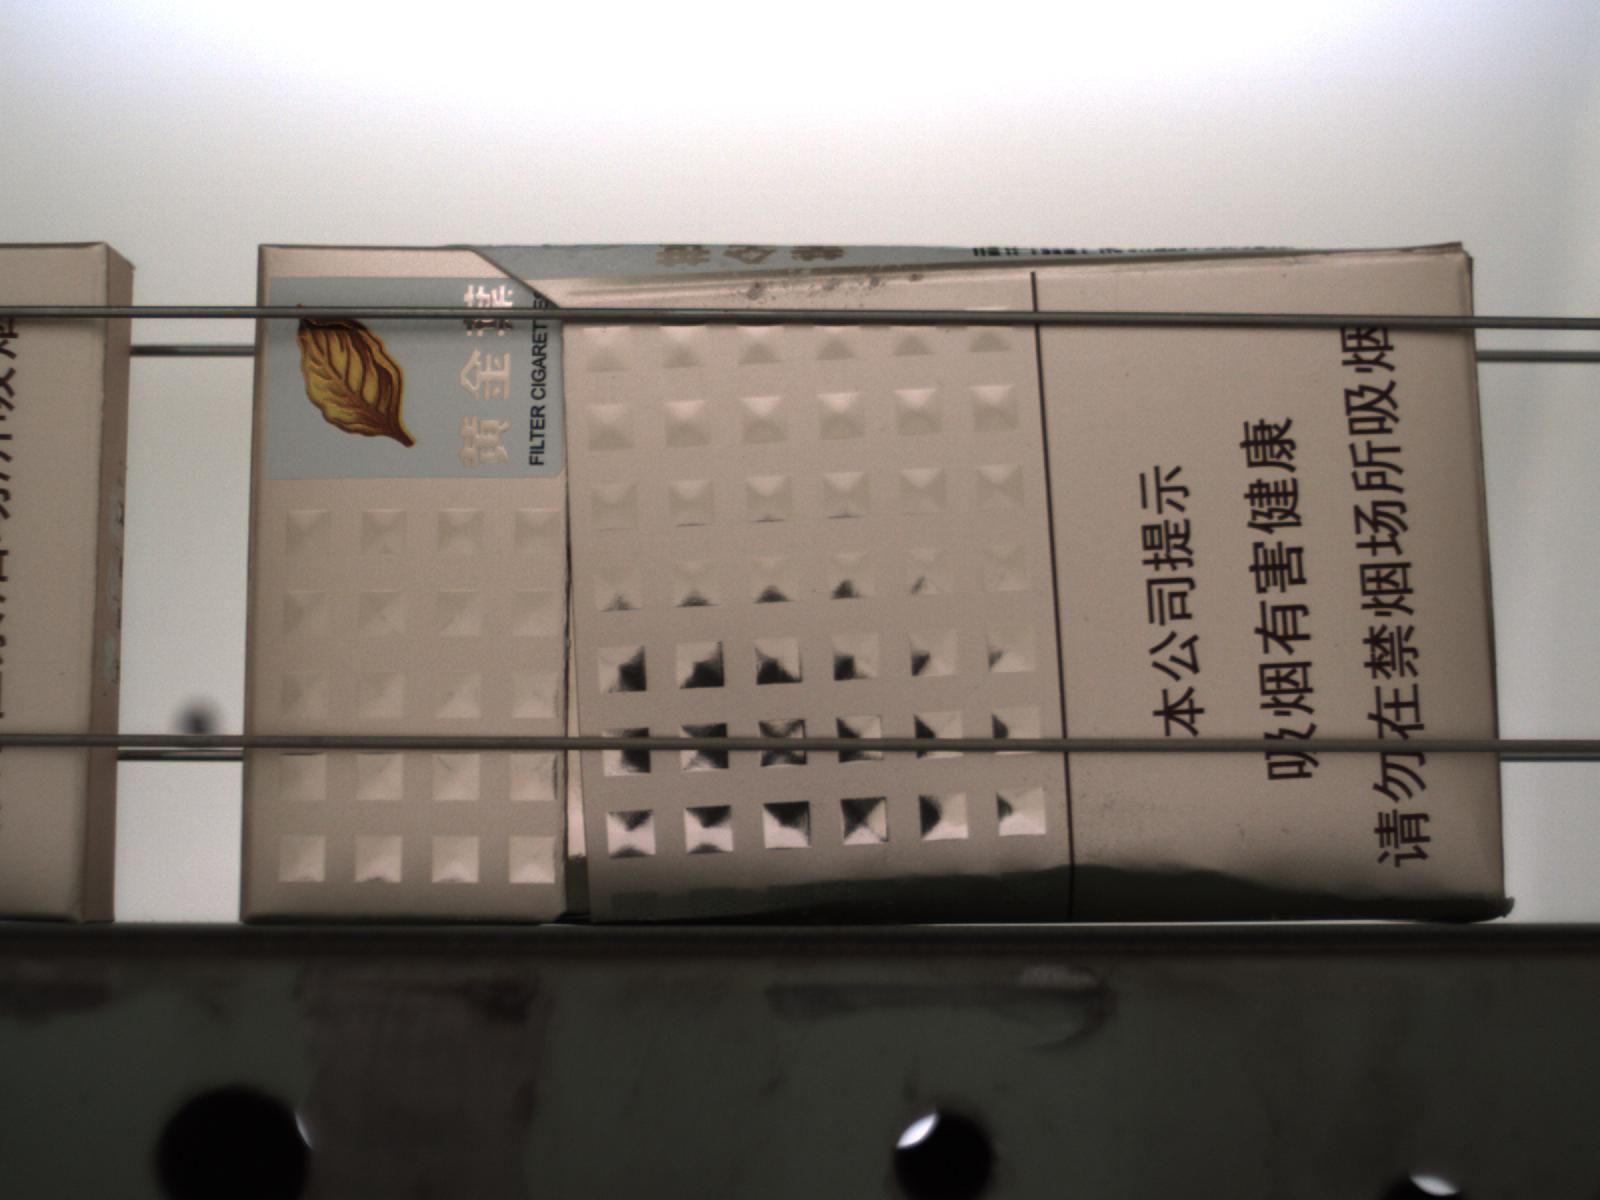boxDamage_slight: (590, 851, 1516, 925)
dirtySpot: (1082, 614, 1092, 624), (1279, 272, 1289, 280), (1123, 371, 1131, 378)
gumDirt: (721, 268, 929, 308), (1063, 776, 1158, 836), (1280, 827, 1291, 834)
skewedOpen: (559, 536, 596, 909)
skewed_upper_0: (454, 237, 1419, 306)
